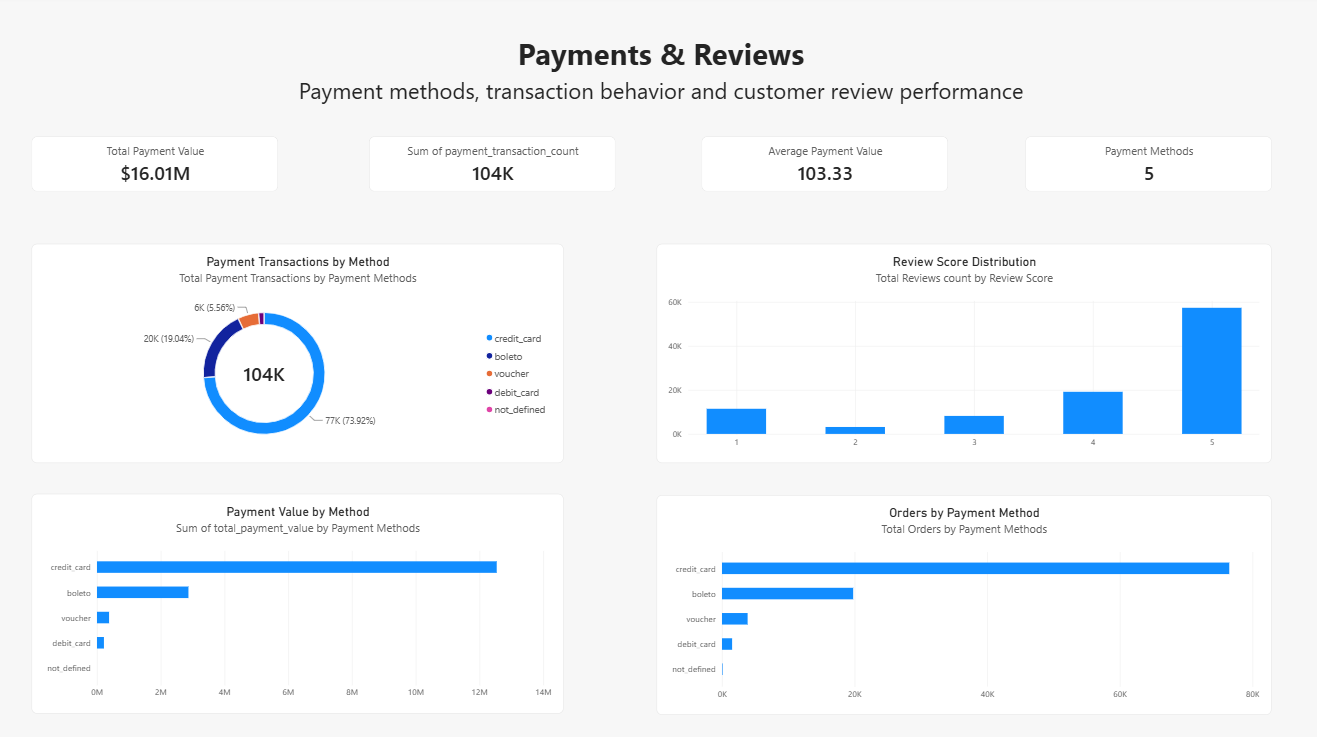

The dashboard page shown, as its layout file describes it:
{"tool":"powerbi","page":{"name":"Payments & Reviews","canvas":[1920,1080],"ordinal":4},"visuals":[{"type":"textbox","box":[10,115,1910,70],"z":0},{"type":"textbox","box":[10,55,1910,80],"z":2},{"type":"cardVisual","fields":{"Data":["Sum(Payment Analysis.total_payment_value)"]},"box":[55,205,357.5,80],"z":3},{"type":"cardVisual","fields":{"Data":["Count(Payment Analysis.total_payment_value)"]},"box":[1492.5,205,357.5,80],"z":5},{"type":"cardVisual","fields":{"Data":["Avg(Payment Analysis.average_payment_value)"]},"box":[1025,205,357.5,80],"z":6},{"type":"cardVisual","fields":{"Data":["Sum(Payment Analysis.payment_transaction_count)"]},"box":[542.5,205,357.5,80],"z":7},{"type":"donutChart","title":"Payment Transactions by Method","fields":{"Category":["Payment Analysis.payment_type"],"Y":["Sum(Payment Analysis.payment_transaction_count)"]},"box":[55,360,770,317.5],"z":8},{"type":"clusteredBarChart","title":"Payment Value by Method","fields":{"Category":["Payment Analysis.payment_type"],"Y":["Sum(Payment Analysis.total_payment_value)"]},"box":[55,722.5,770,318],"z":9},{"type":"clusteredColumnChart","title":"Review Score Distribution","fields":{"Category":["Review Analysis.review_score"],"Y":["Sum(Review Analysis.review_count)"]},"box":[960,360,890,317.5],"z":10},{"type":"barChart","title":"Orders by Payment Method","fields":{"Category":["Payment Analysis.payment_type"],"Y":["Sum(Payment Analysis.total_orders)"]},"box":[960,723,890,318],"z":11}]}

Visuals, with their boxes in screenshot pixels (x1, y1, x2, y2), scaled from the page's 1920x1080 canvas onto the 1317x737 screenshot:
textbox: 7 78 1316 126
textbox: 7 38 1316 92
cardVisual - Sum(Payment Analysis.total_payment_value): 38 140 283 194
cardVisual - Count(Payment Analysis.total_payment_value): 1024 140 1269 194
cardVisual - Avg(Payment Analysis.average_payment_value): 703 140 948 194
cardVisual - Sum(Payment Analysis.payment_transaction_count): 372 140 617 194
"Payment Transactions by Method" donutChart: 38 246 566 462
"Payment Value by Method" clusteredBarChart: 38 493 566 710
"Review Score Distribution" clusteredColumnChart: 658 246 1269 462
"Orders by Payment Method" barChart: 658 493 1269 710
